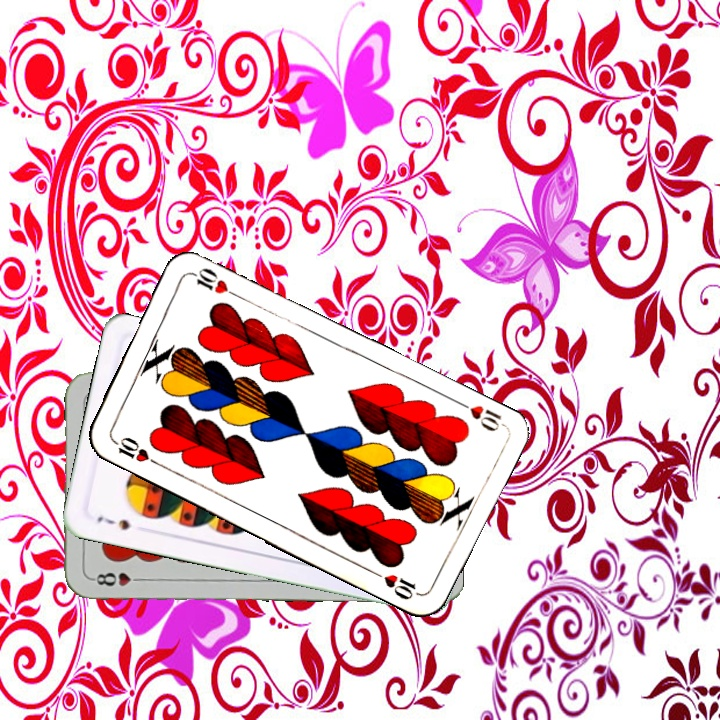H10: (451, 395, 506, 434), (107, 432, 162, 469)
H8: (88, 568, 147, 588)
S7: (93, 512, 132, 533)
